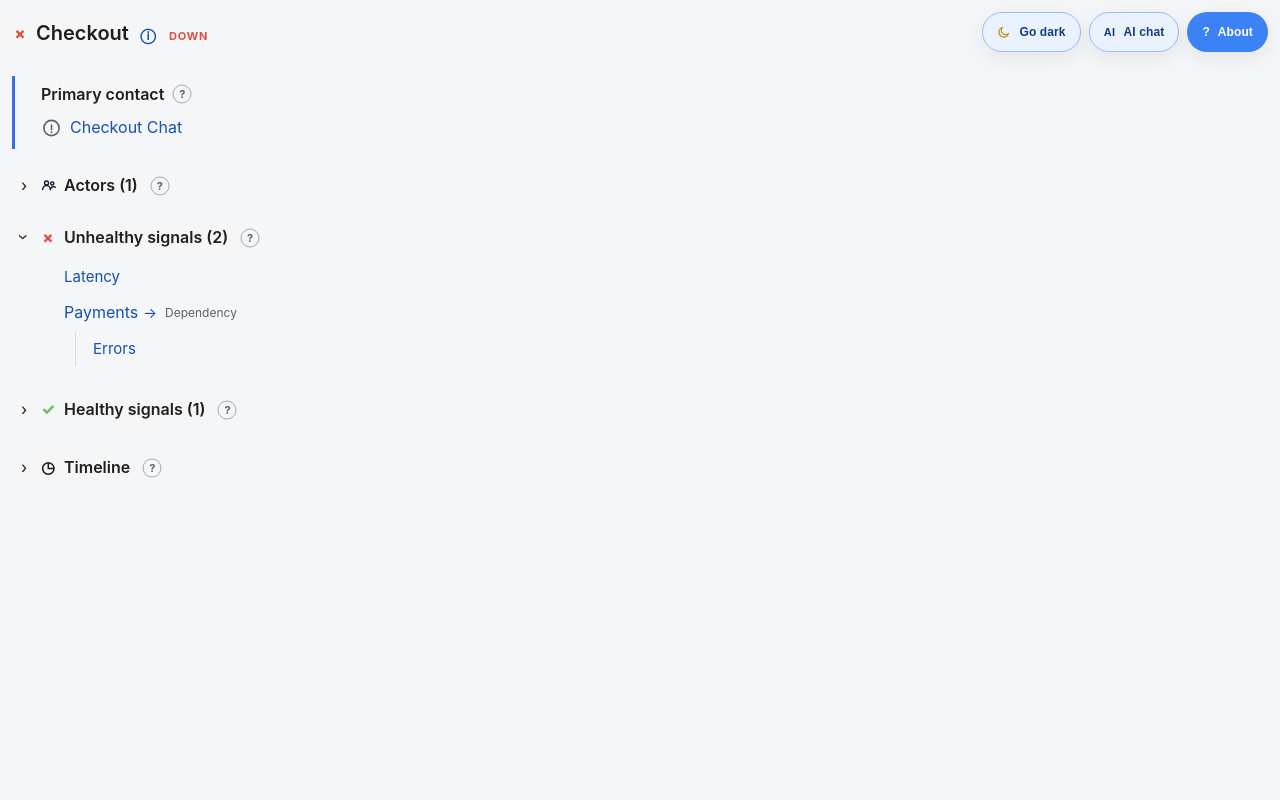
Scenario: DetailsPanel contextual help › falls back to the short description when detailed catalog information is missing
What coordinates should you click on to do the following:
click the button named "Catalog information for Checkout"
I would click on:
 (148, 34)
Its box is [135, 22, 161, 48].
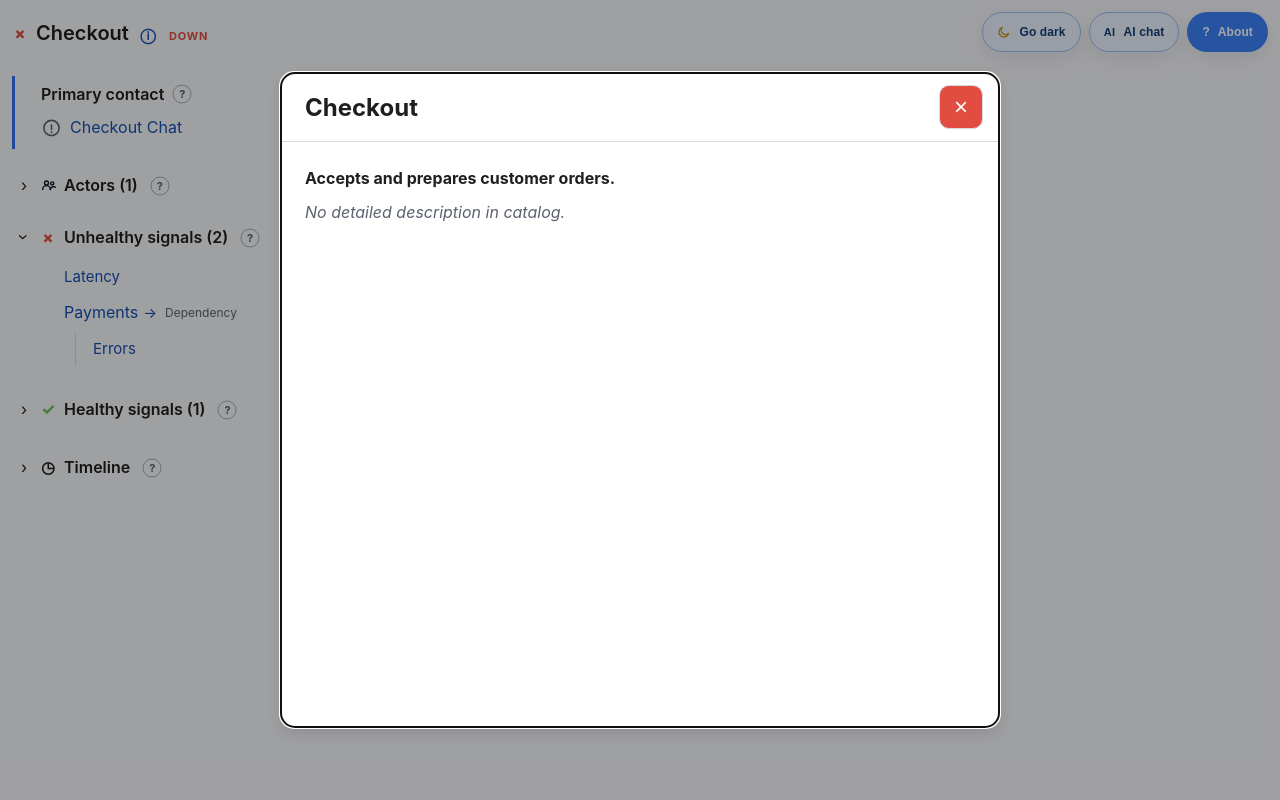
Expected: the dialog named "Catalog information for Checkout" shows "Accepts and prepares customer orders.", [305, 168, 615, 188]
Expected: the dialog named "Catalog information for Checkout" shows "No detailed description in catalog.", [305, 202, 565, 222]
Expected: the element showing "Accepts and prepares customer orders." is shown, [305, 168, 615, 188]
